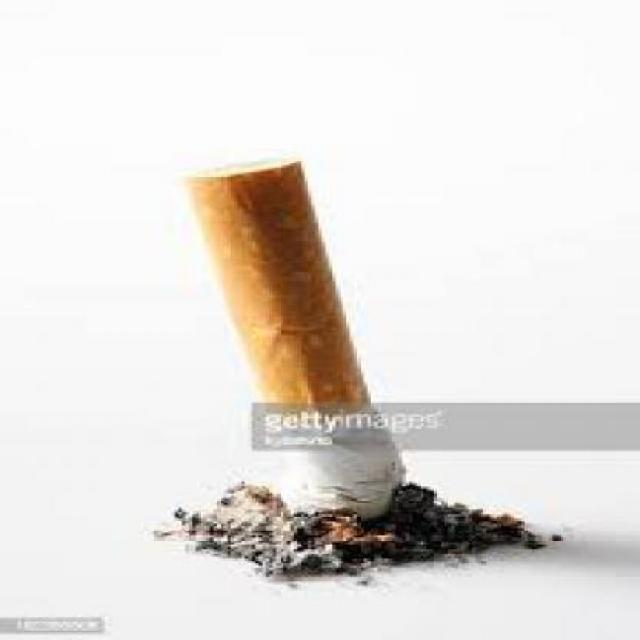cigarette: (150, 144, 462, 528)
